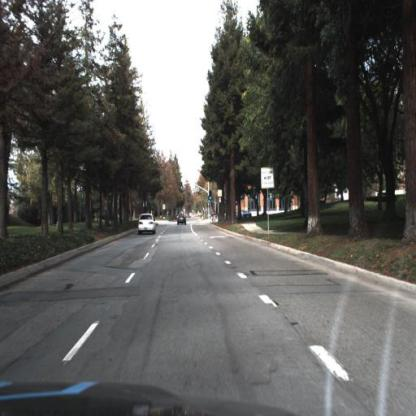car: (138, 210, 160, 237), (177, 213, 189, 229)
trafficLight-Green: (208, 188, 214, 204), (180, 180, 185, 193)
